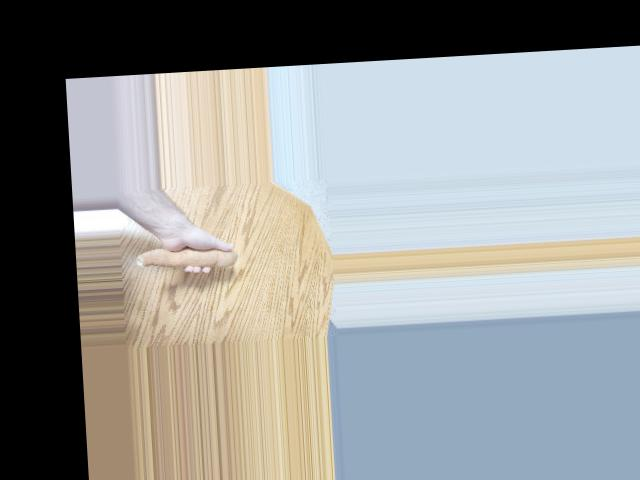sweet_potato: (134, 237, 245, 276)
